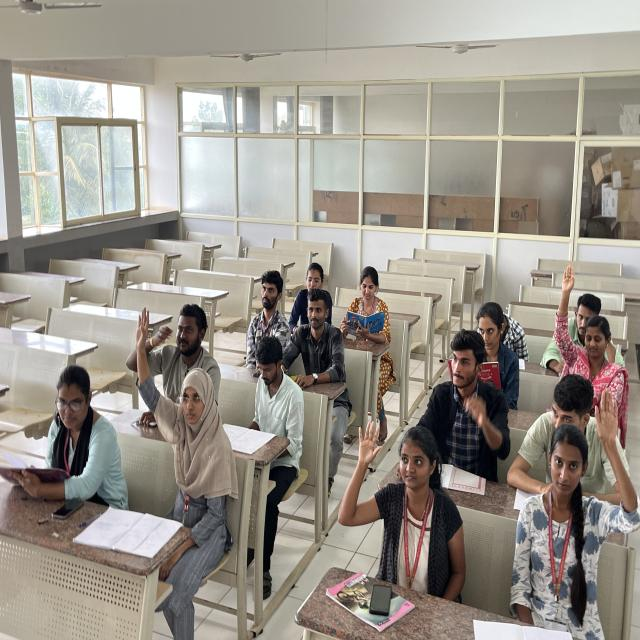Hand Rising: (515, 380, 640, 607), (325, 414, 471, 602), (128, 304, 234, 546), (543, 262, 624, 377)
Reading: (0, 348, 118, 518), (240, 325, 304, 454), (336, 259, 397, 348)
